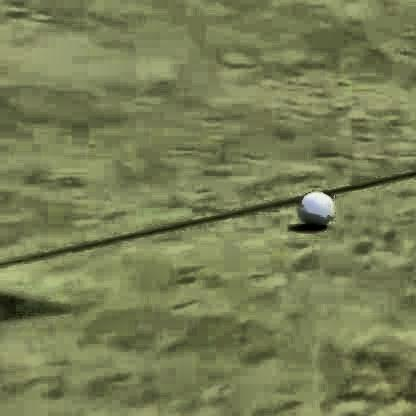golfball: (296, 186, 332, 223)
